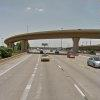Car: (81, 53, 100, 74)
